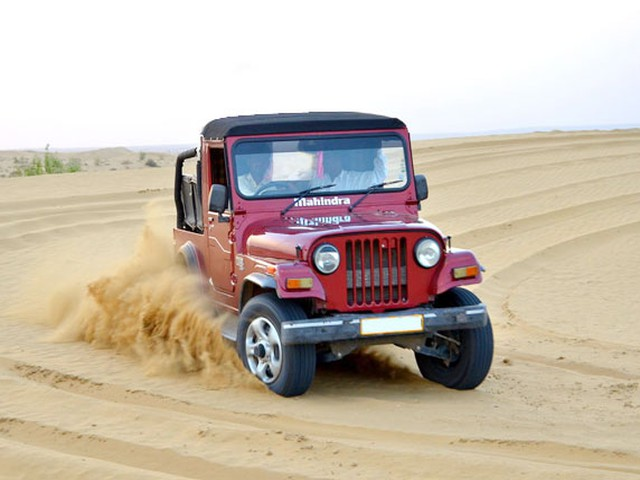Vehicle: (170, 110, 500, 397)
